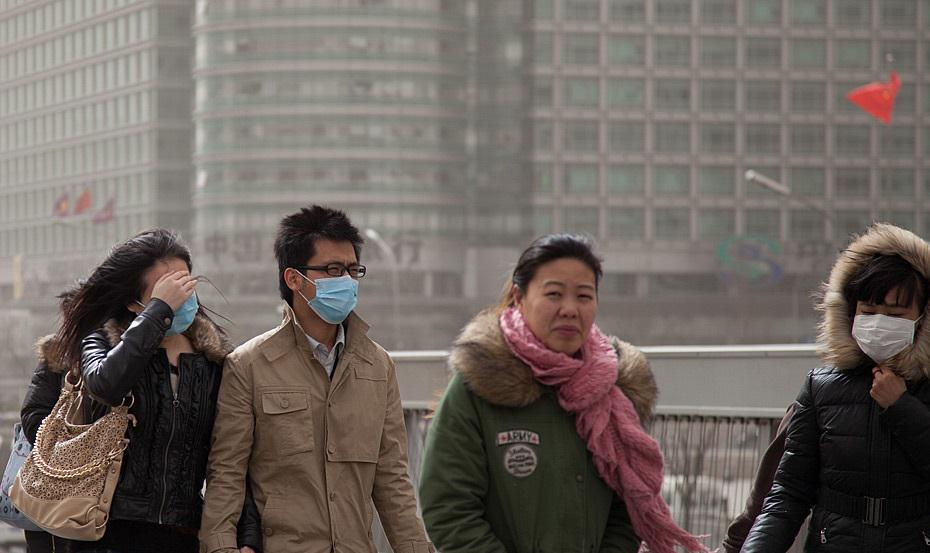NONE: (524, 275, 595, 351)
OK: (289, 251, 364, 326), (853, 294, 919, 360), (139, 272, 199, 335)
